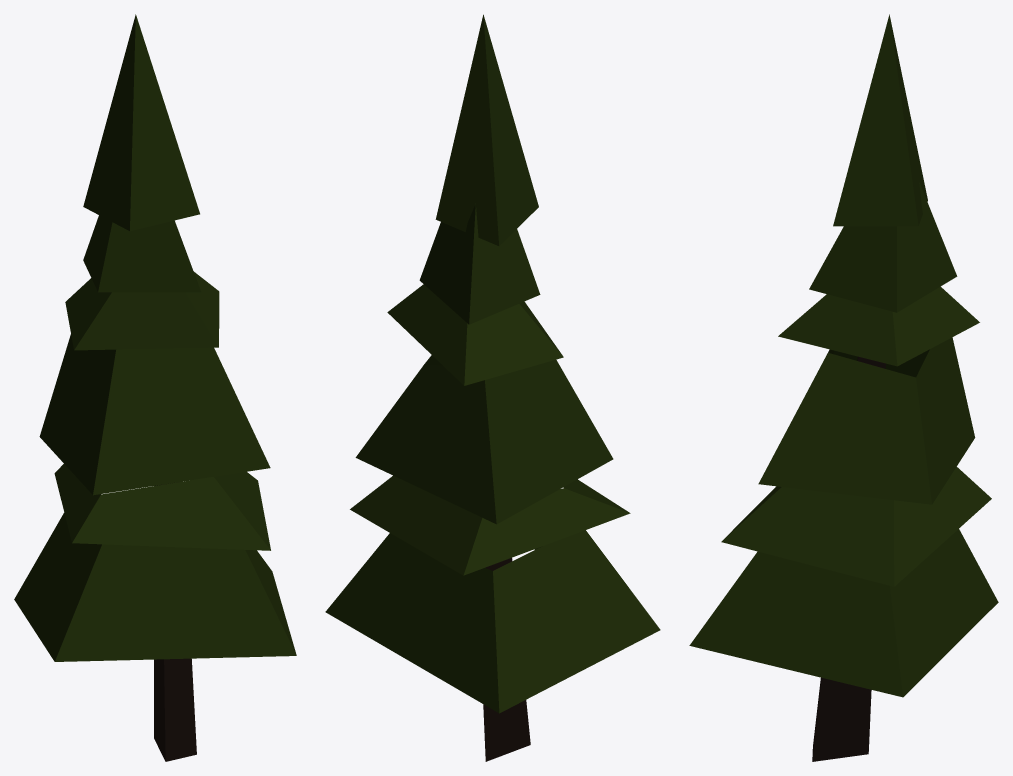
The model's file is L3PINE_03.obj.
3 views of the same model, side by side, from view 1: azimuth 30°, elevation 25°; view 2: azimuth 150°, elevation 25°; view 3: azimuth 270°, elevation 25° (orthographic). The views are drawn at different scales.
Parts seen in each view (by area): view 1: Cylinder.003, Cylinder.004; view 2: Cylinder.003, Cylinder.004; view 3: Cylinder.003, Cylinder.004.
Boxes of the visible parts, x1,y1,x2,y2 form: Cylinder.003: (14, 14, 296, 661); Cylinder.004: (154, 482, 196, 761); Cylinder.003: (325, 14, 660, 713); Cylinder.004: (483, 558, 530, 761); Cylinder.003: (689, 14, 998, 697); Cylinder.004: (812, 356, 885, 761).
Size of the model in its own units: 2.51 by 6.42 by 2.45.
